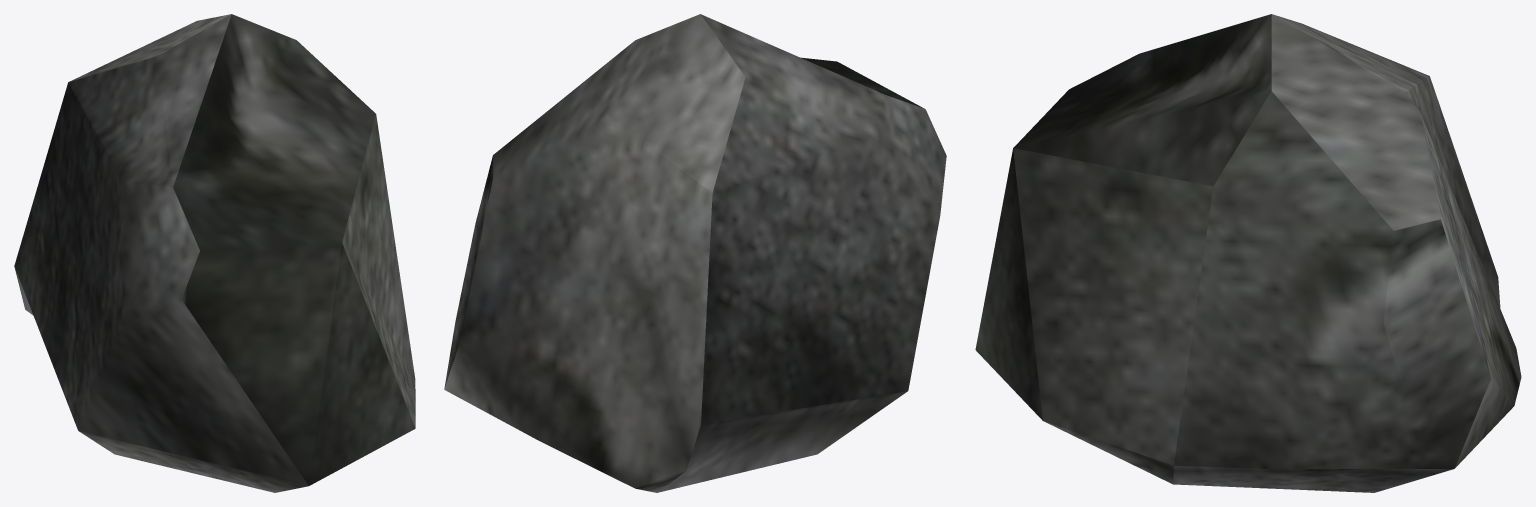
Rendered from Rock_v5.fbx.
3 views of the same model, side by side, from view 1: azimuth 30°, elevation 25°; view 2: azimuth 150°, elevation 25°; view 3: azimuth 270°, elevation 25° (orthographic). The views are drawn at different scales.
Parts seen in each view (by area): view 1: Rock5; view 2: Rock5; view 3: Rock5.
Part boxes in pixels (x1=…): Rock5: x1=14, y1=14, x2=415, y2=492; Rock5: x1=444, y1=14, x2=946, y2=492; Rock5: x1=975, y1=14, x2=1521, y2=492.
Bounding box in the file's own units: 154 × 169 × 194.
